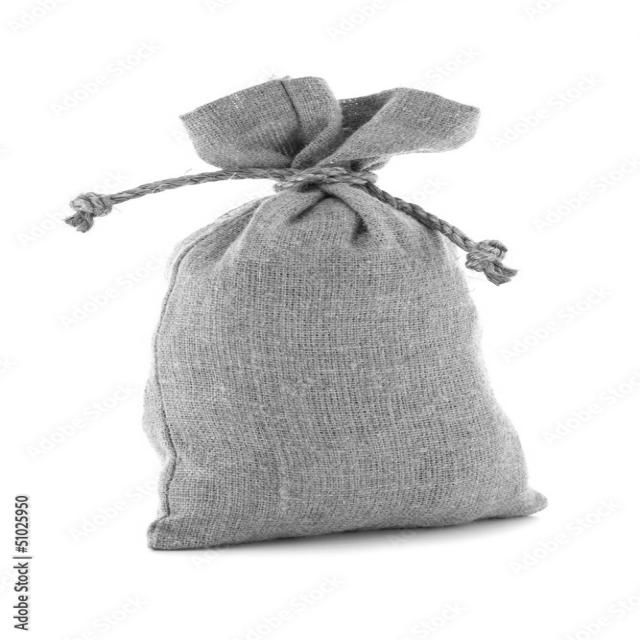sack: (143, 76, 547, 550)
